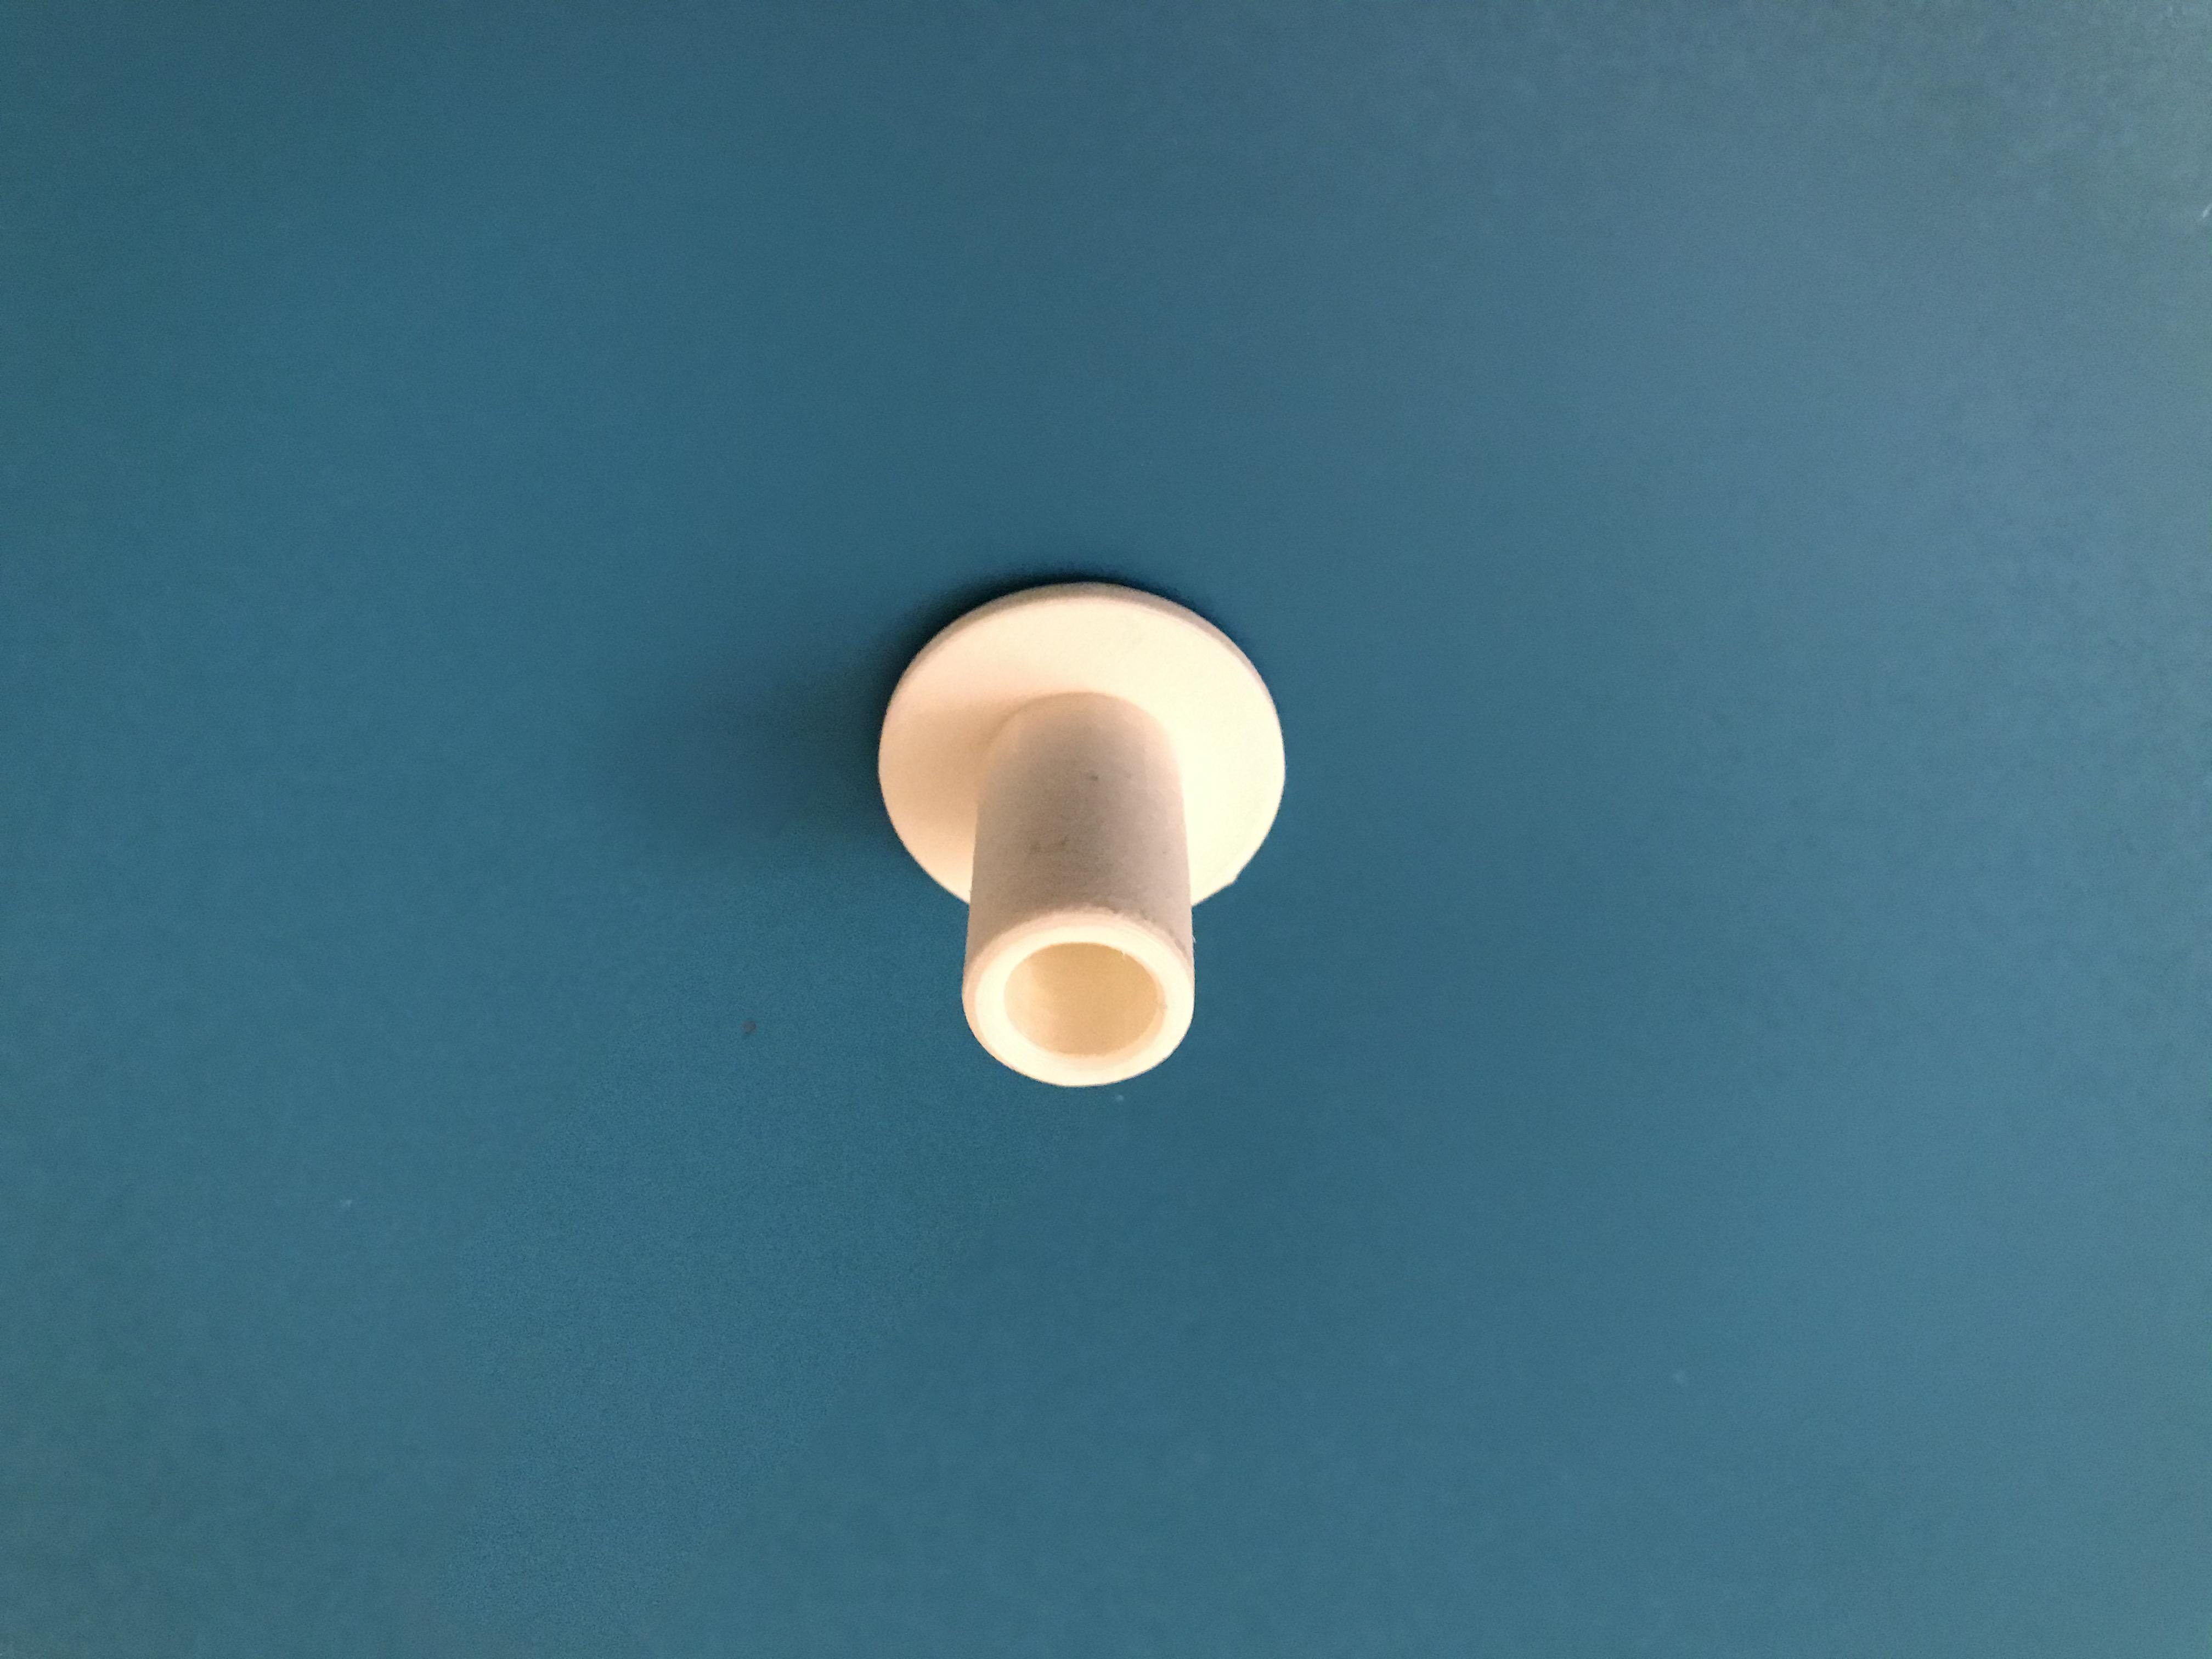White Cone: (843, 561, 1312, 1107)
